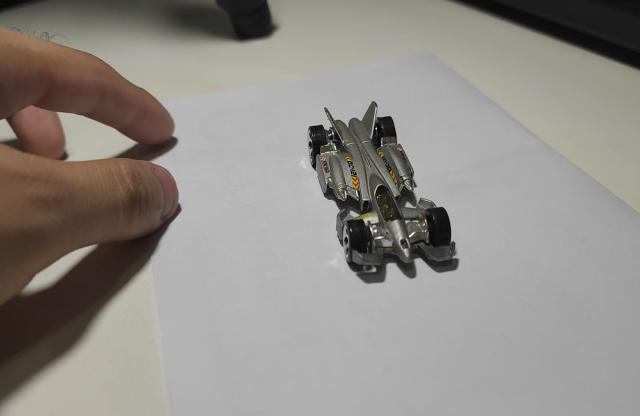05_DC121: (306, 102, 461, 285)
